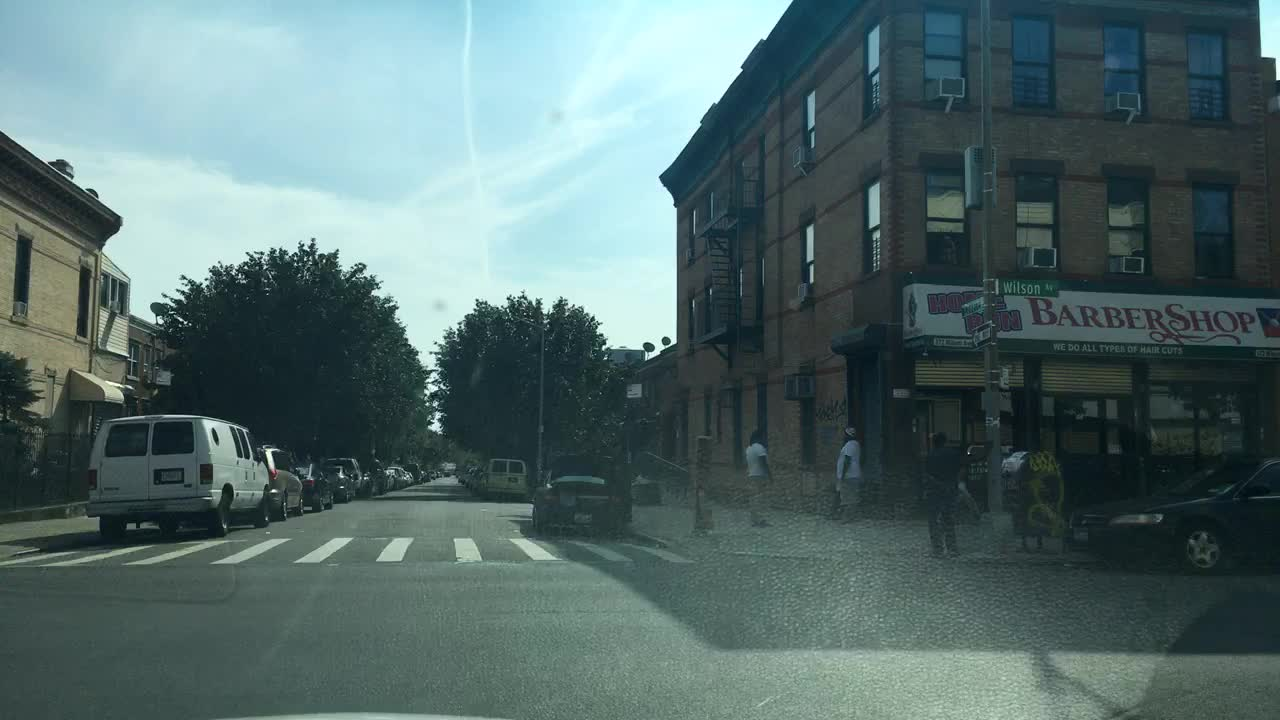car: (1064, 450, 1278, 572), (85, 414, 272, 535), (531, 451, 624, 538), (259, 439, 304, 517), (295, 457, 335, 512), (477, 455, 526, 498), (330, 455, 361, 496), (328, 464, 351, 508), (367, 460, 391, 494), (356, 471, 375, 498), (392, 466, 406, 487), (464, 466, 478, 486), (403, 469, 416, 486), (458, 471, 467, 486), (420, 467, 427, 480), (443, 466, 452, 476), (428, 471, 438, 478)
person: (922, 429, 965, 560), (832, 426, 866, 520), (742, 429, 772, 527)
traffic light: (978, 390, 1014, 413)
traffic sign: (996, 279, 1061, 298), (970, 321, 993, 351), (957, 294, 982, 319)
truck: (406, 462, 423, 480)
